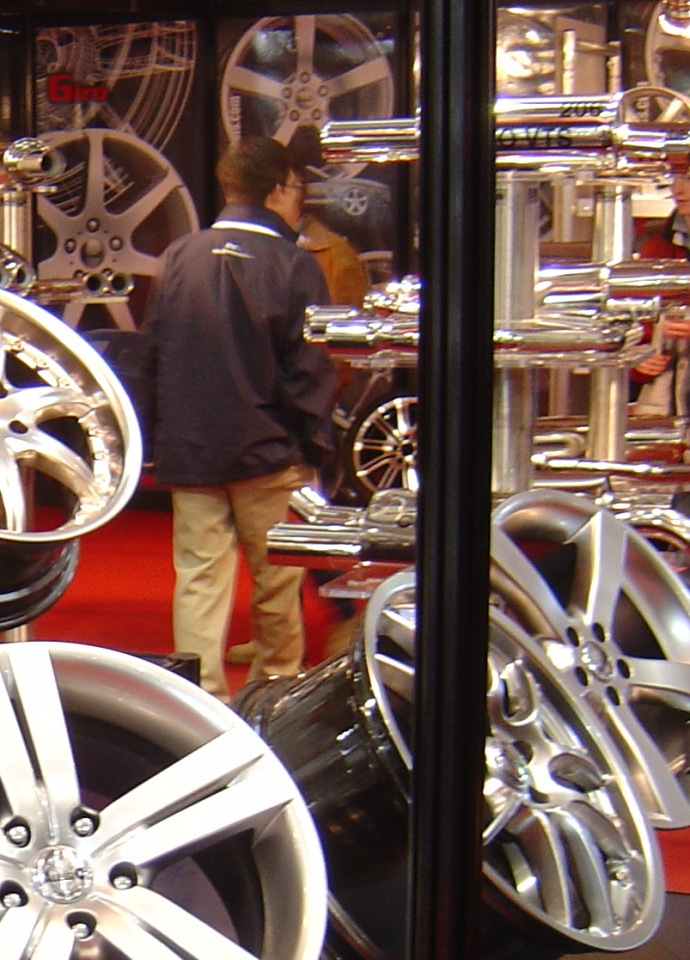person: (160, 130, 328, 749)
